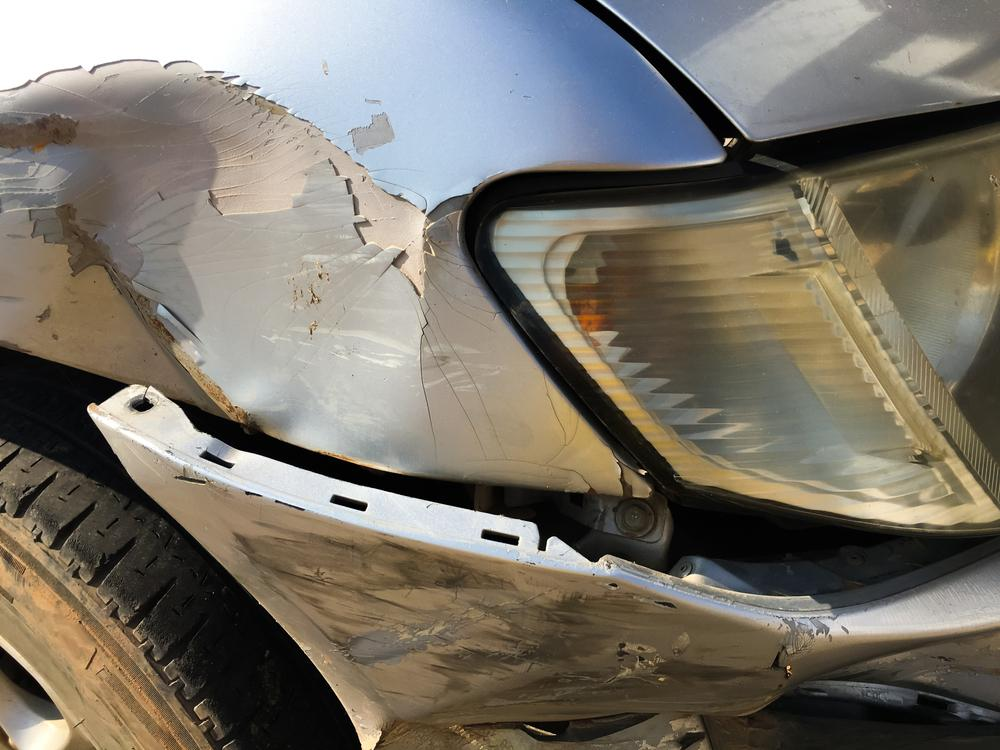dent: (0, 73, 635, 494)
scratch: (217, 524, 781, 729)
